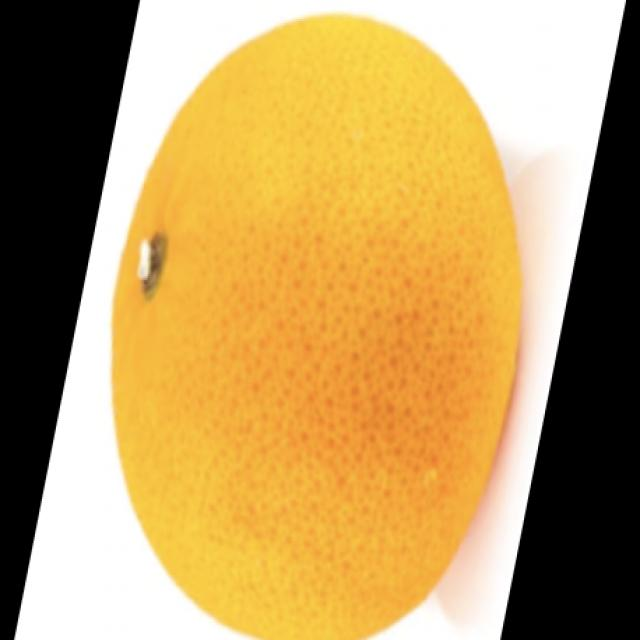fresh: (100, 2, 542, 639)
